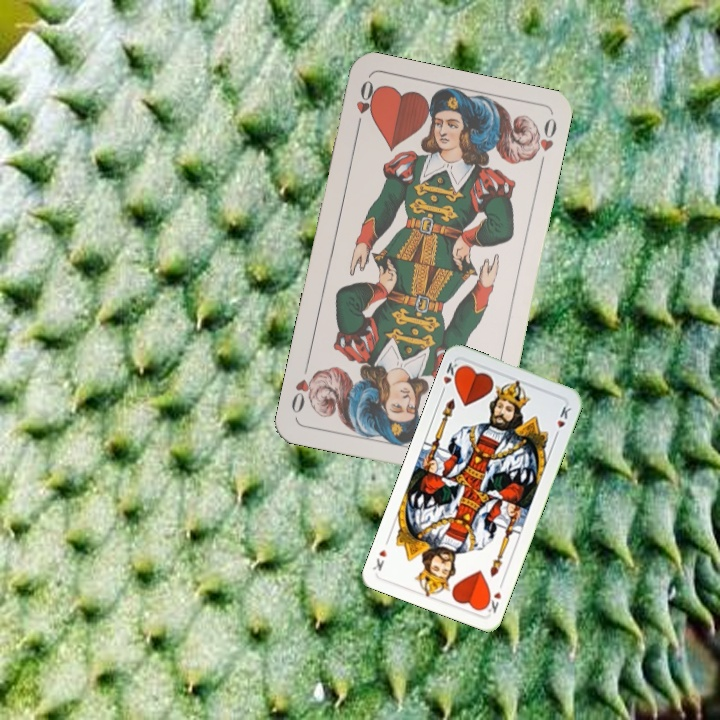HK: (437, 358, 464, 396), (480, 577, 506, 616)
HO: (352, 76, 380, 134)
